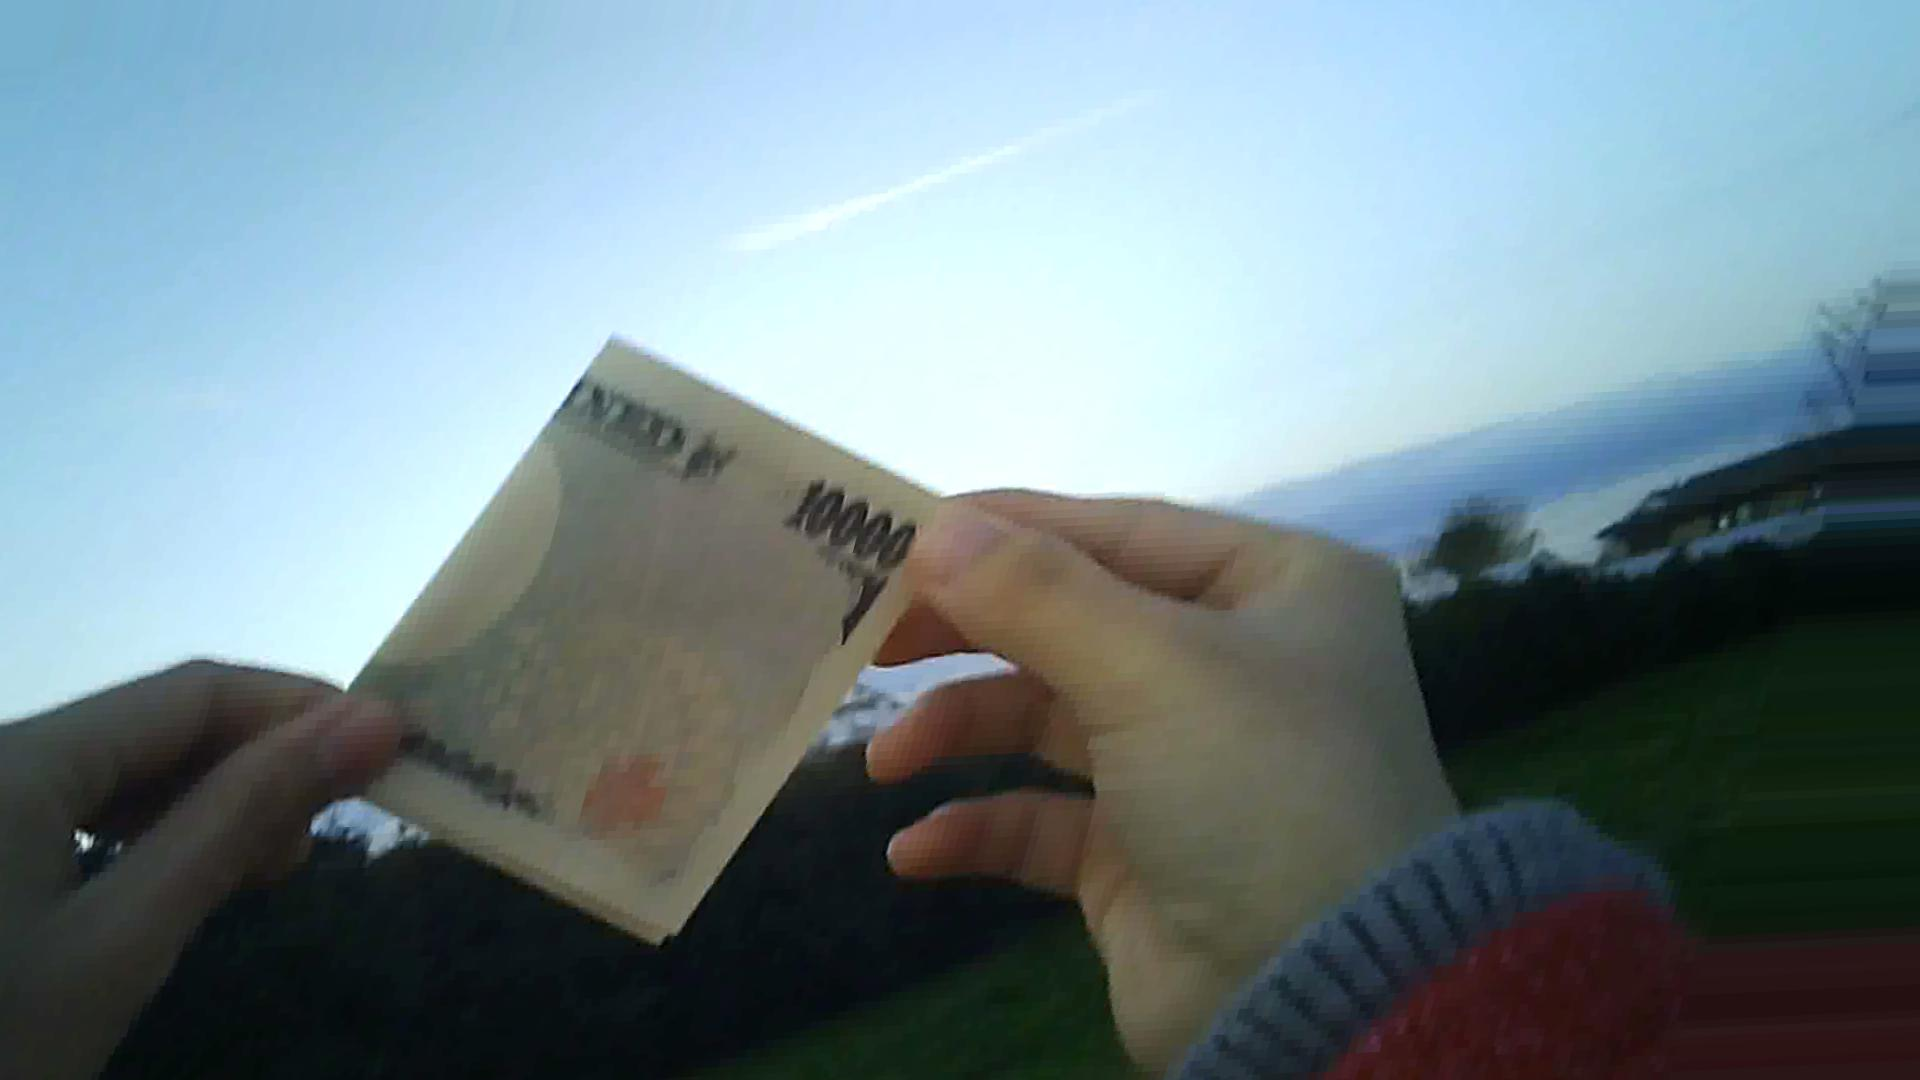10,000 Yen: (287, 336, 975, 924)
